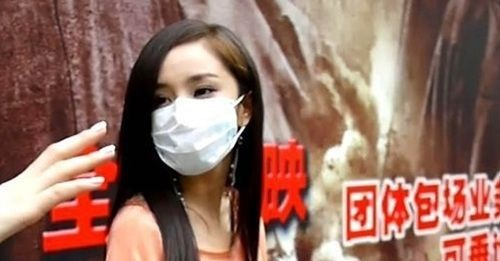face_mask: (150, 52, 238, 176)
